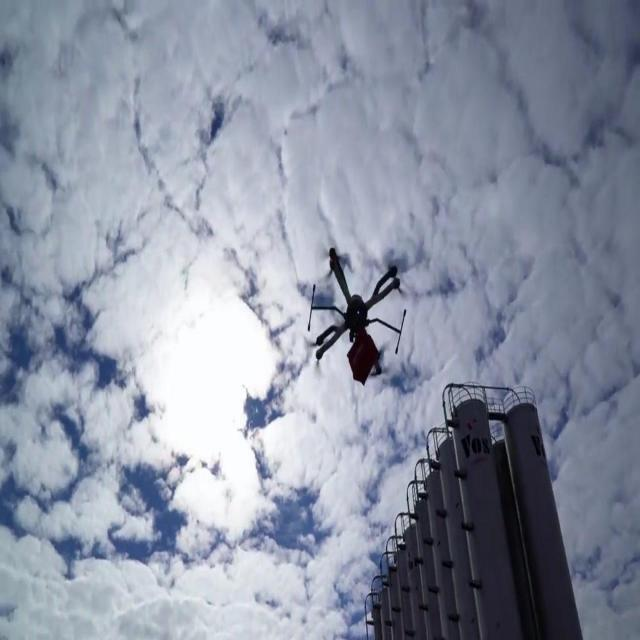UAV: (307, 247, 407, 378)
